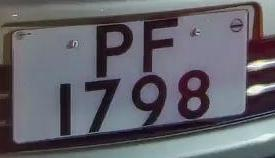1: (47, 75, 83, 141)
7: (79, 73, 126, 137)
8: (172, 65, 219, 125)
9: (126, 68, 172, 132)
F: (134, 17, 185, 76)
P: (83, 17, 143, 82)
